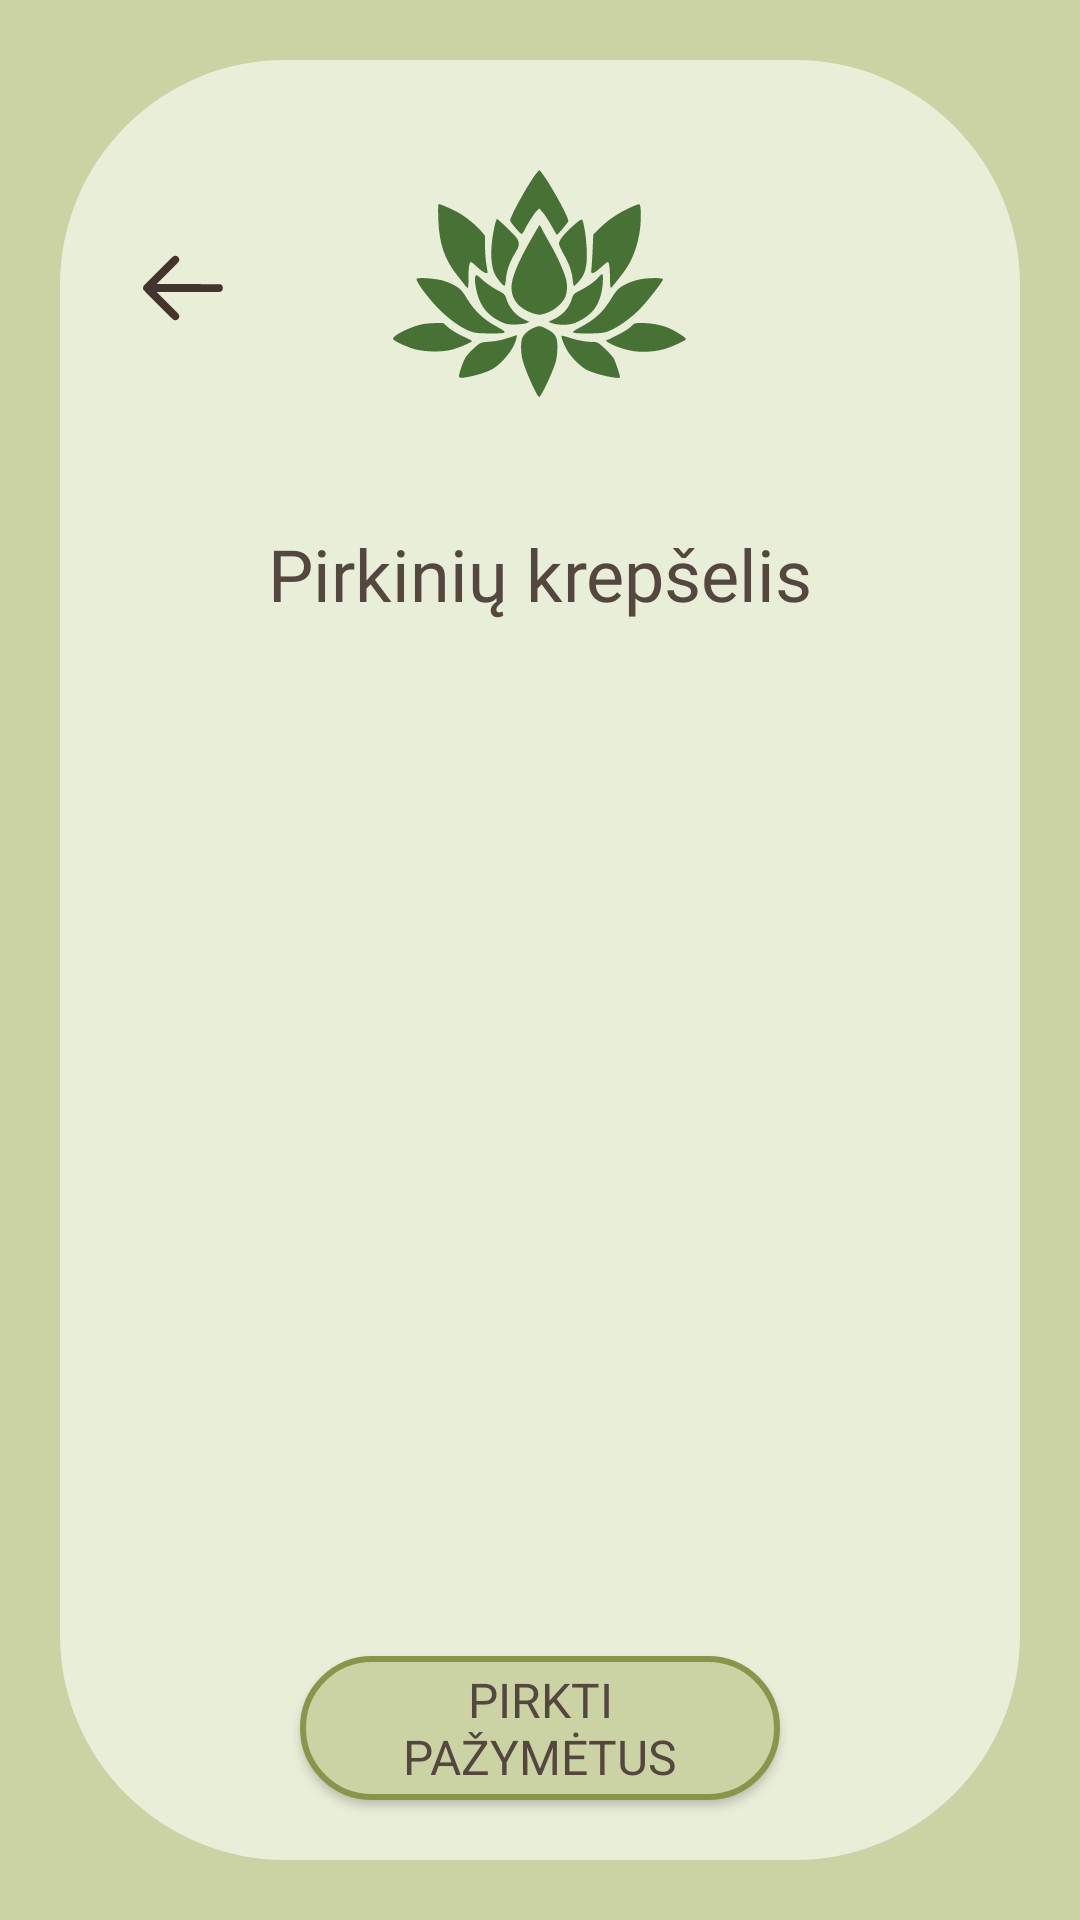

Icons on this 1080 × 1920 Android screen, each with the point to tap as point (x, y):
lotus: point (539, 283)
